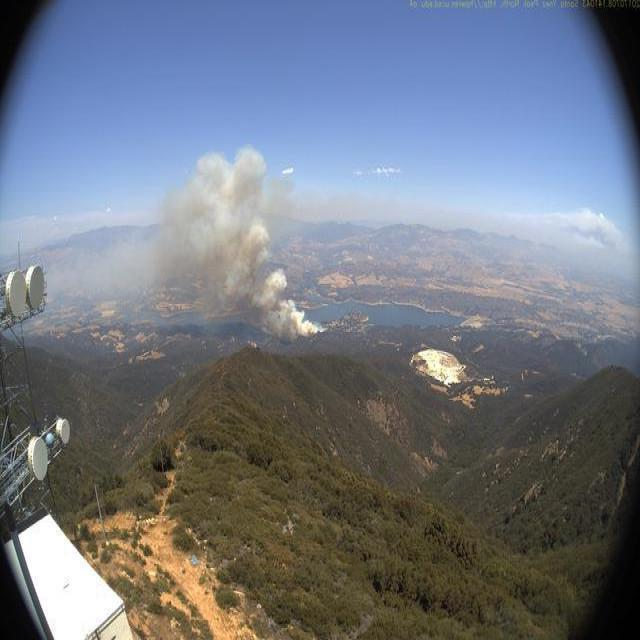Smoke: (120, 138, 328, 344)
